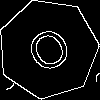O: (23, 24, 80, 84)
